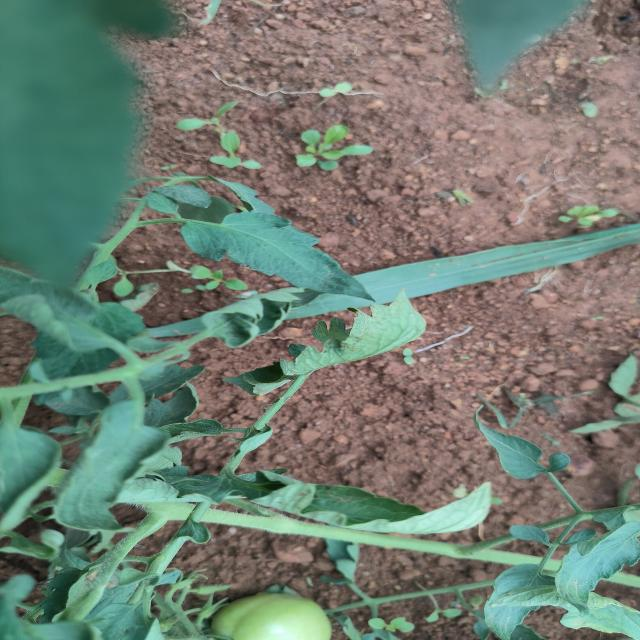tomato_healthy: (0, 0, 169, 285), (180, 212, 370, 298), (53, 401, 167, 531), (556, 522, 640, 613)
